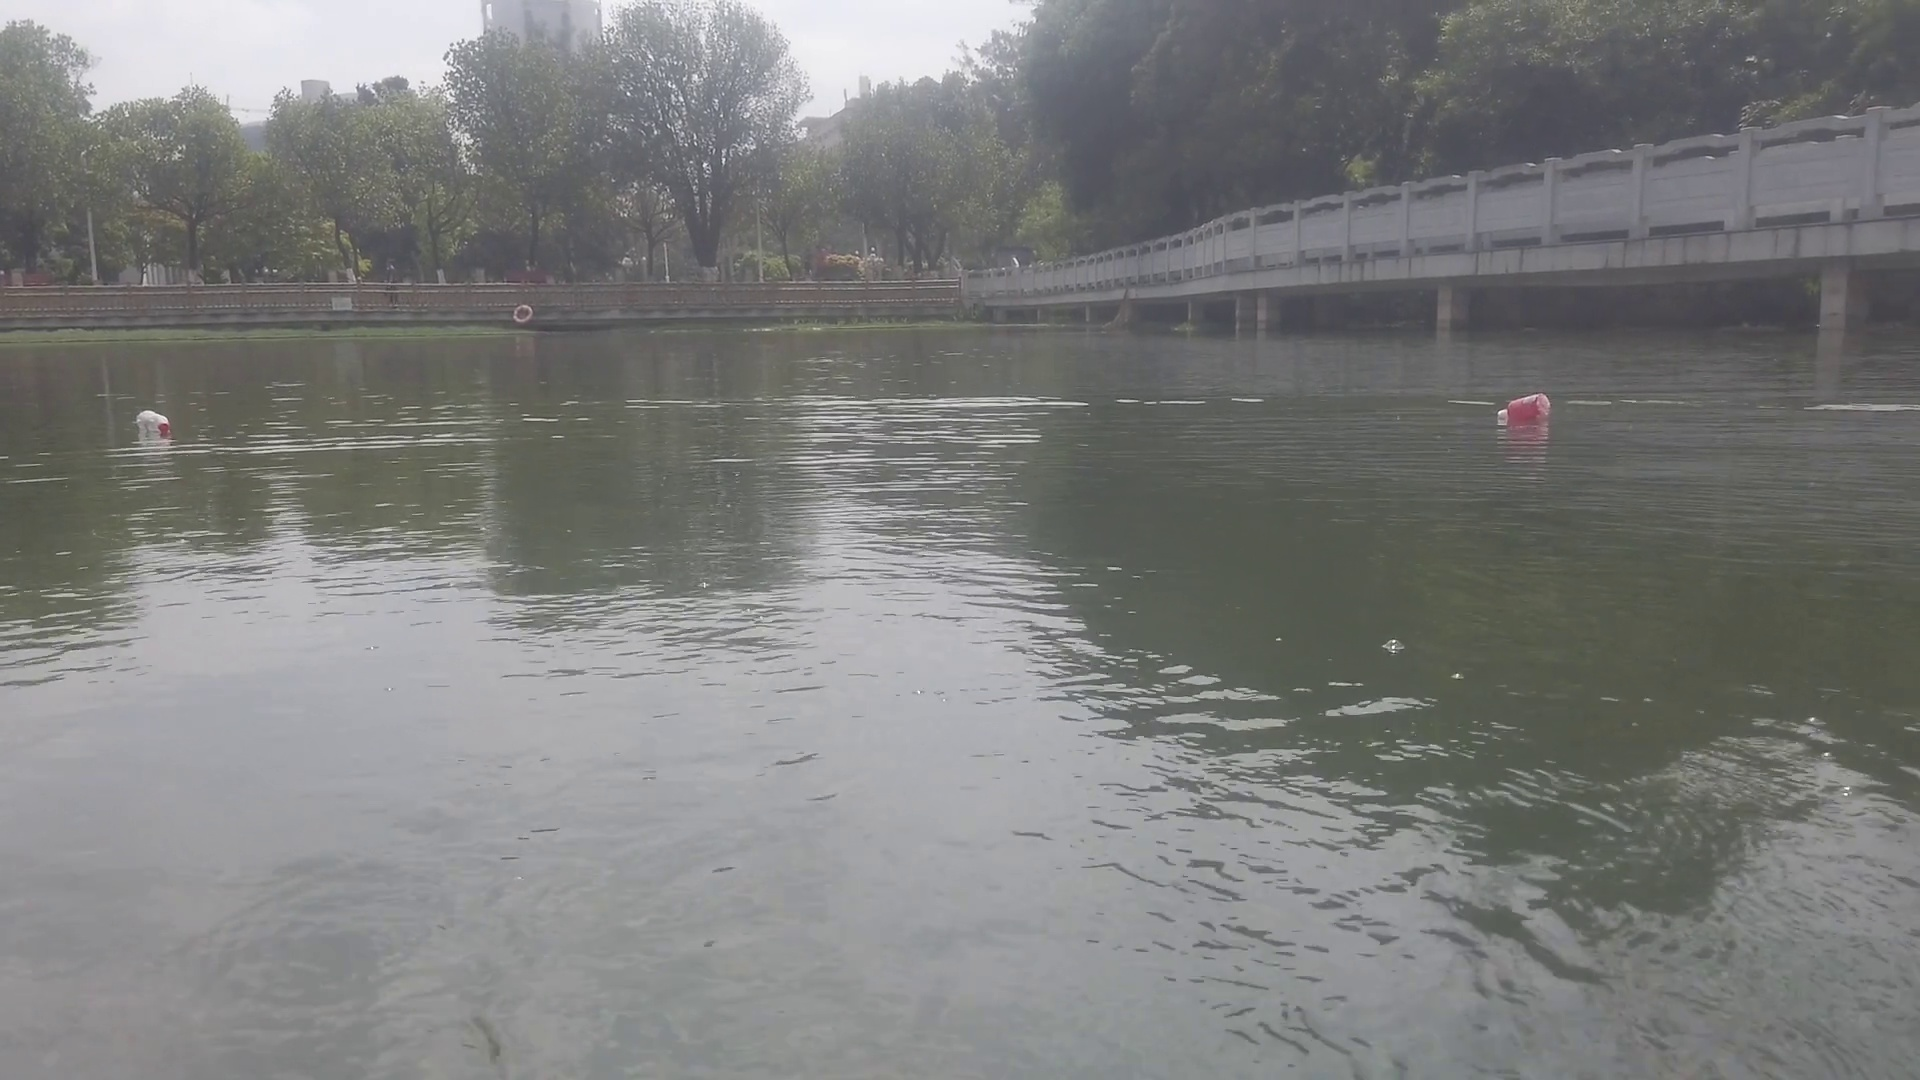bottle: (1494, 398, 1555, 425), (131, 406, 175, 430)
